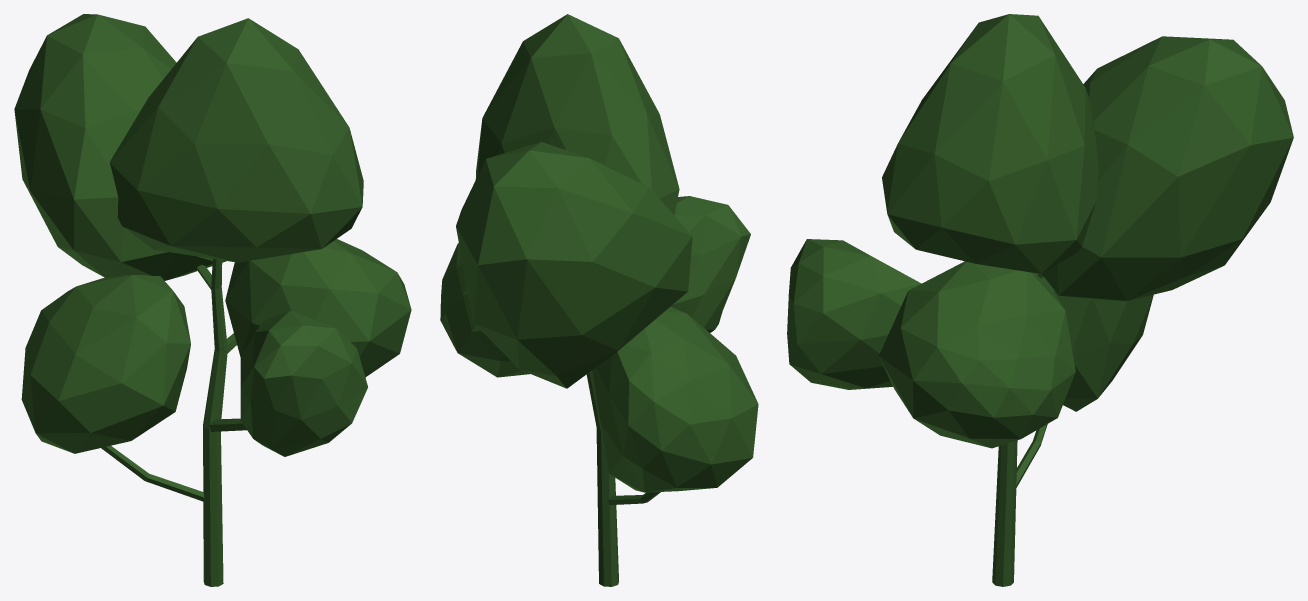
File: Birch1.FBX
3 renders of one model, left to right at view 1: azimuth 30°, elevation 25°; view 2: azimuth 150°, elevation 25°; view 3: azimuth 270°, elevation 25°, orthographic. The views are drawn at different scales.
Parts seen in each view (by area): view 1: Birch1; view 2: Birch1; view 3: Birch1.
Part boxes in pixels (x1,y1,x2,y2): Birch1: (14, 14, 411, 586); Birch1: (440, 14, 758, 586); Birch1: (787, 14, 1293, 586).
Size of what is drawn, in the model's own units: 489 by 610 by 781.
